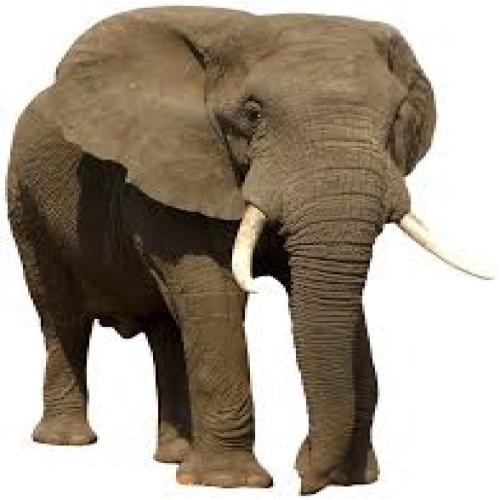asian_elephant-endangered: (13, 10, 486, 495)
